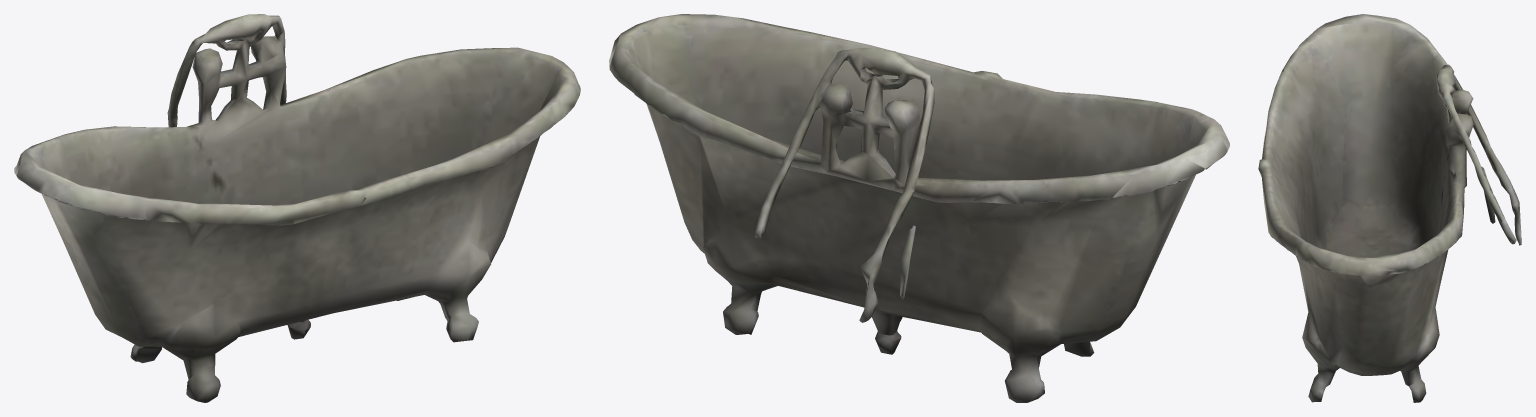
Rendered from simple-white-painted-bathtub-v001.glb.
The picture shows the model from 3 angles, left to right: view 1: azimuth 30°, elevation 25°; view 2: azimuth 150°, elevation 25°; view 3: azimuth 270°, elevation 25°; orthographic projection. The views are drawn at different scales.
Visible parts, largest first — view 1: simple-white-painted-bathtub; view 2: simple-white-painted-bathtub; view 3: simple-white-painted-bathtub.
Part boxes in pixels (<box>): simple-white-painted-bathtub: <box>14,14,580,402</box>; simple-white-painted-bathtub: <box>609,14,1229,402</box>; simple-white-painted-bathtub: <box>1258,14,1521,402</box>.
Bounding box in the file's own units: 1.48 × 0.7969 × 0.7129.
Materials: 1 (1 with a texture image).
